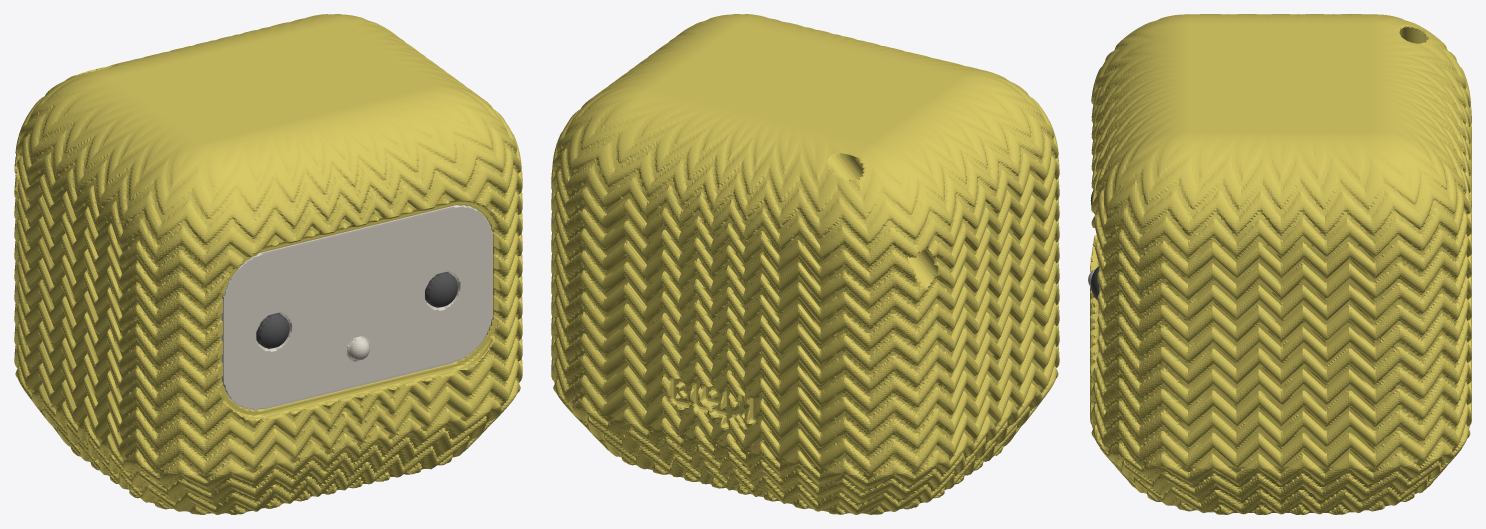
The model's file is bloki_crochet.glb.
The picture shows the model from 3 angles, left to right: view 1: azimuth 30°, elevation 25°; view 2: azimuth 150°, elevation 25°; view 3: azimuth 270°, elevation 25°; orthographic projection.
Visible parts, largest first — view 1: geometry_0, geometry_1, geometry_2; view 2: geometry_0; view 3: geometry_0.
Boxes of the visible parts, left/top/right/bottom form: geometry_0: left=14, top=14, right=522, bottom=514; geometry_1: left=221, top=205, right=492, bottom=409; geometry_2: left=256, top=272, right=457, bottom=348; geometry_0: left=551, top=14, right=1059, bottom=514; geometry_0: left=1090, top=14, right=1471, bottom=514.
Bounding box in the file's own units: 37.27 × 32 × 31.28.
